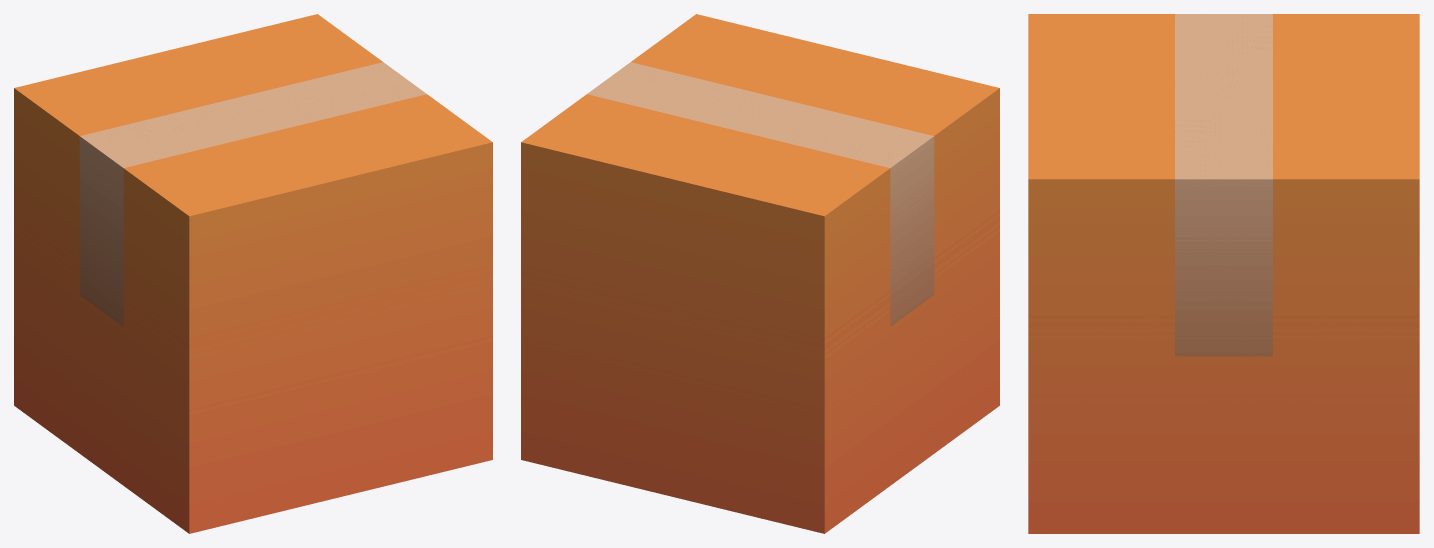
The model's file is Orange.glb.
The picture shows the model from 3 angles, left to right: view 1: azimuth 30°, elevation 25°; view 2: azimuth 150°, elevation 25°; view 3: azimuth 270°, elevation 25°; orthographic projection. The views are drawn at different scales.
Visible parts, largest first — view 1: box-small; view 2: box-small; view 3: box-small.
Part boxes in pixels (x1=…): box-small: x1=14, y1=14, x2=492, y2=533; box-small: x1=521, y1=14, x2=999, y2=533; box-small: x1=1028, y1=14, x2=1419, y2=533.
Size of the model in its own units: 0.5 by 0.5 by 0.5.
Materials: 1 (1 with a texture image).
